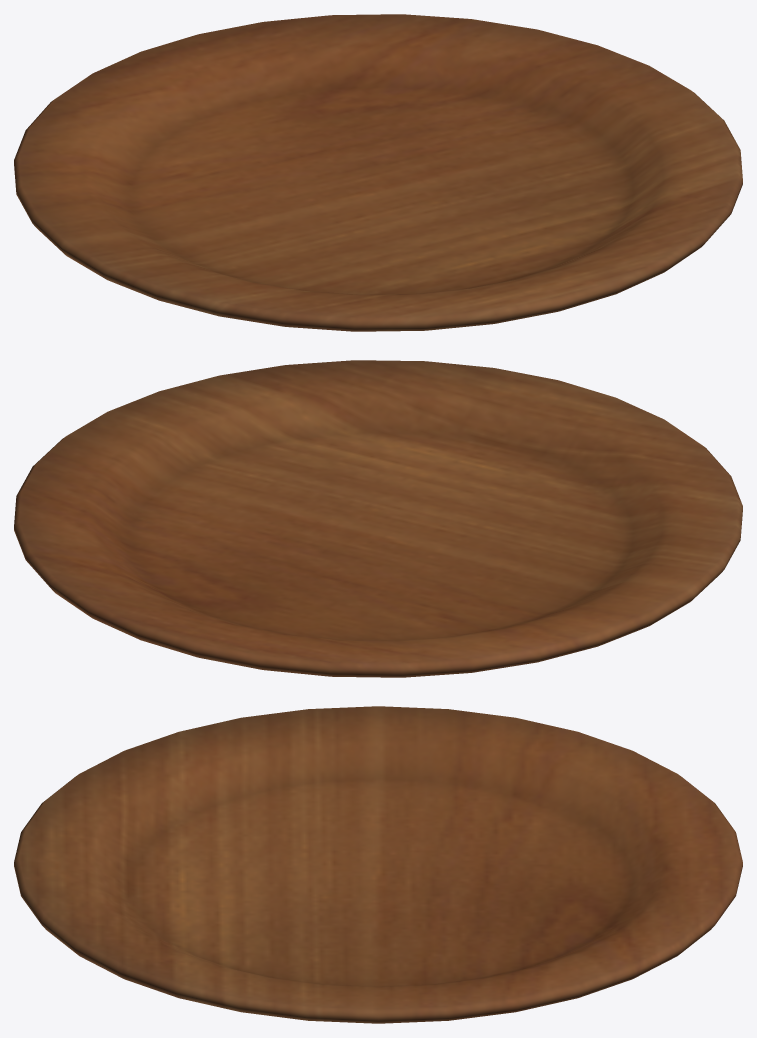
File: GardenTableWear01_16.FBX
The picture shows the model from 3 angles, top to bottom: view 1: azimuth 30°, elevation 25°; view 2: azimuth 150°, elevation 25°; view 3: azimuth 270°, elevation 25°; orthographic projection.
Parts seen in each view (by area): view 1: GardenTableWear01_16; view 2: GardenTableWear01_16; view 3: GardenTableWear01_16.
Boxes of the visible parts, x1,y1,x2,y2 form: GardenTableWear01_16: [14, 14, 742, 331]; GardenTableWear01_16: [14, 360, 742, 677]; GardenTableWear01_16: [14, 706, 742, 1023].
Size of what is drawn, in the model's own units: 0.3302 by 0.0198 by 0.3302.
